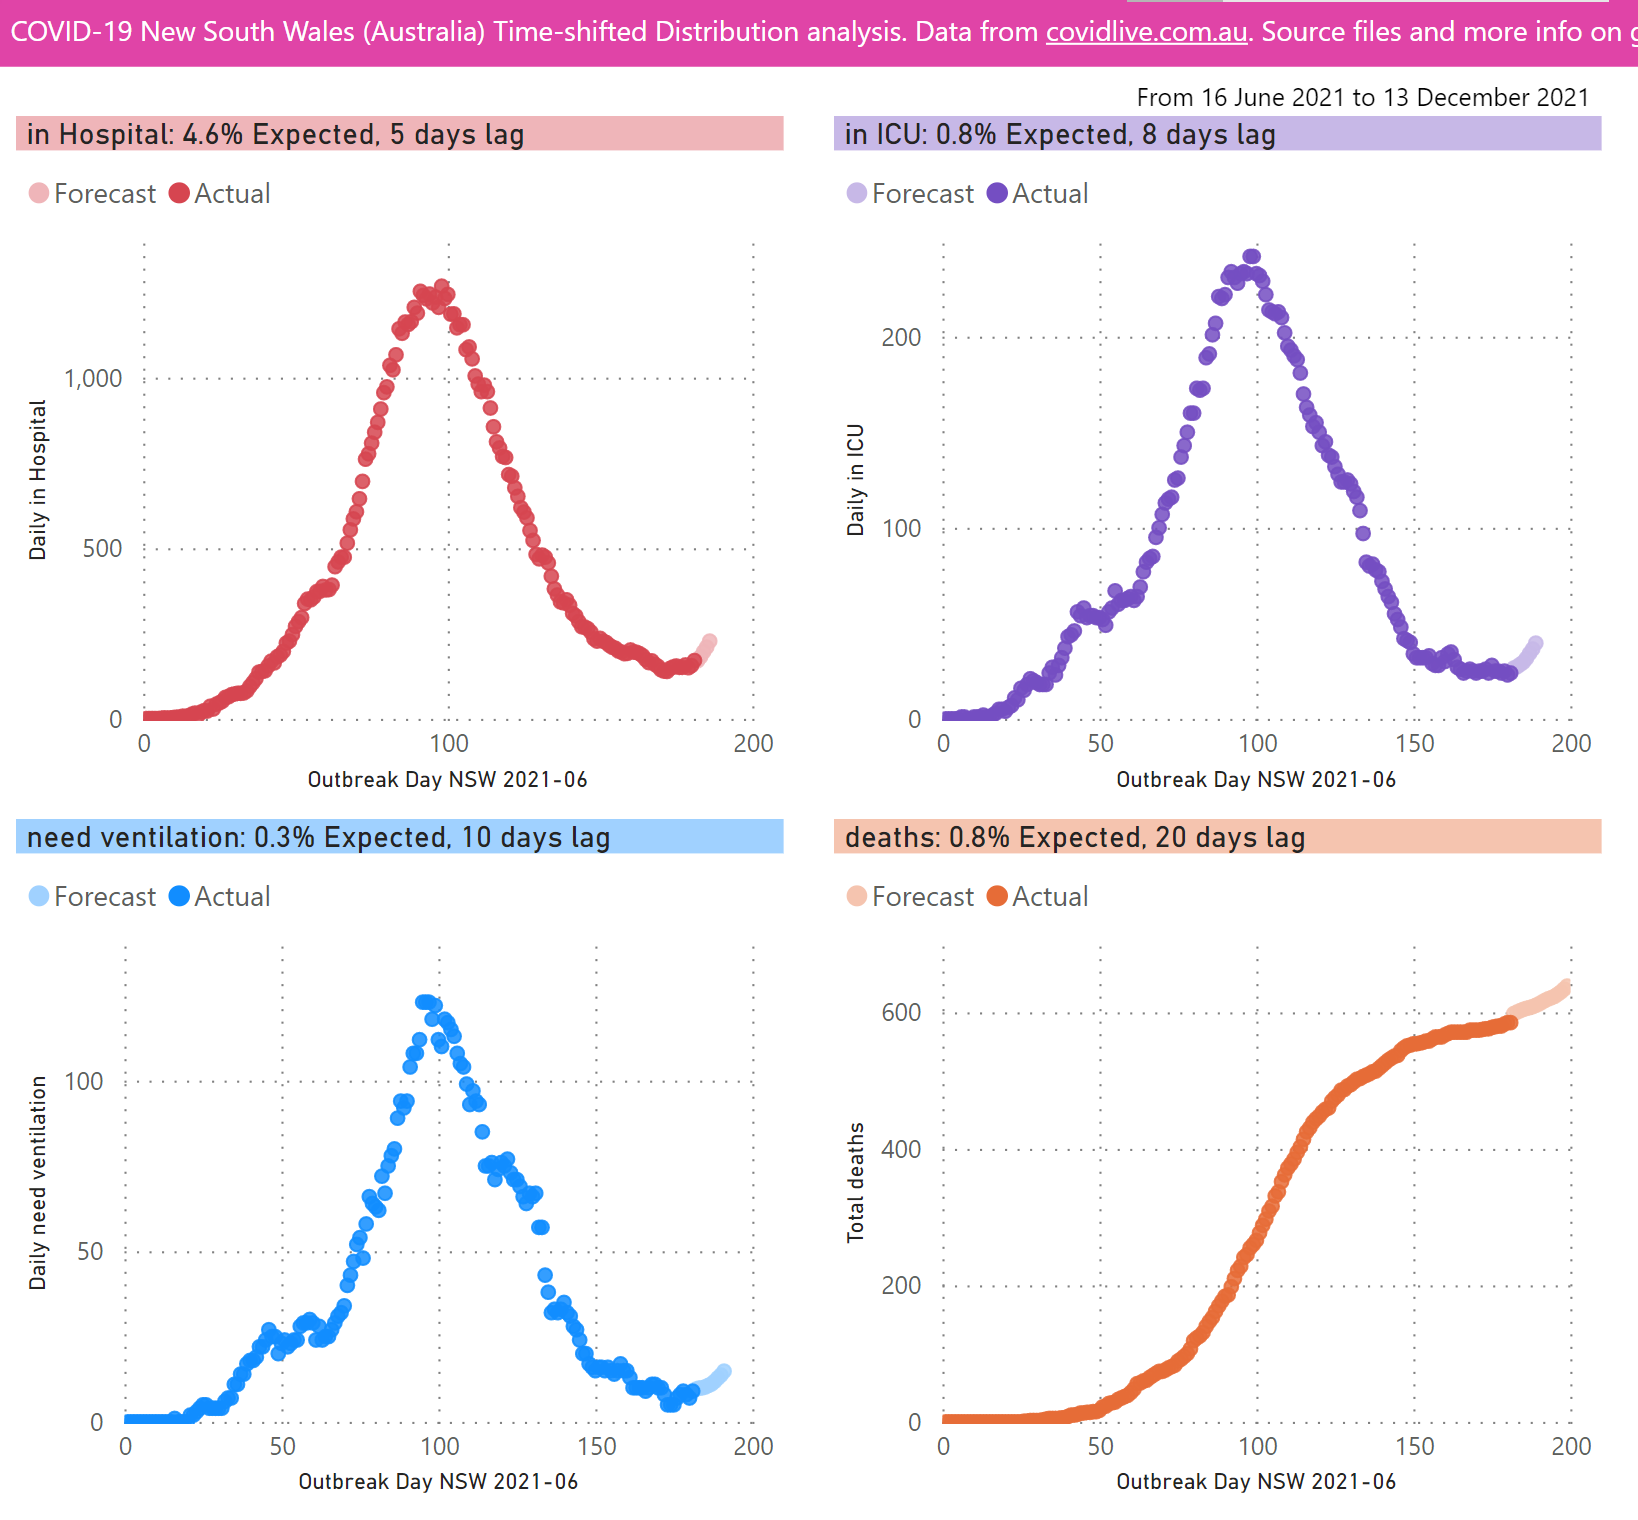

This screenshot's page, from the dashboard's own definition file:
{"tool":"powerbi","page":{"name":"TSD NSW 2021-06","canvas":[1280,720],"ordinal":4},"visuals":[{"type":"scatterChart","fields":{"X":["Sum(Dates.Outbreak Day NSW 2021-06)"],"Series":["Series.Series"],"Category":["Dates.Date"],"Y":["covid-live.# Total in Metric w Fcst"]},"box":[400,392,368,328],"z":0},{"type":"shape","box":[1104,434,160,264],"z":1000},{"type":"shape","box":[928,434,160,264],"z":2000},{"type":"shape","box":[1104,160,160,264],"z":3000},{"type":"shape","box":[928,160,160,264],"z":4000},{"type":"scatterChart","fields":{"X":["Sum(Dates.Outbreak Day NSW 2021-06)"],"Series":["Series.Series"],"Category":["Dates.Date"],"Y":["covid-live.# Total in Metric w Fcst"]},"box":[8,56,368,328],"z":5000},{"type":"slicer","fields":{"Values":["covid-live.Report Date"]},"box":[1056,48,208,112],"z":6000},{"type":"slicer","fields":{"Values":["Metric Expected.%.% Metric Expected"]},"box":[936,184,144,112],"z":7000},{"type":"slicer","fields":{"Values":["Days to Lag.Days to Lag"]},"box":[936,304,144,112],"z":8000},{"type":"textbox","box":[0,0,1280,32],"z":9000},{"type":"scatterChart","fields":{"X":["Sum(Dates.Outbreak Day NSW 2021-06)"],"Series":["Series.Series"],"Category":["Dates.Date"],"Y":["covid-live.# Total in Metric w Fcst"]},"box":[8,392,368,328],"z":10000},{"type":"scatterChart","fields":{"X":["Sum(Dates.Outbreak Day NSW 2021-06)"],"Series":["Series.Series"],"Category":["Dates.Date"],"Y":["covid-live.# Total in Metric w Fcst"]},"box":[400,56,368,328],"z":11000},{"type":"slicer","fields":{"Values":["% Metric Expected.%.% Metric Expected"]},"box":[1112.9,184.7,144,112],"z":12000},{"type":"slicer","fields":{"Values":["Days to Lag.Days to Lag"]},"box":[1112.9,304.7,144,112],"z":13000},{"type":"slicer","fields":{"Values":["% Metric Expected.%.% Metric Expected"]},"box":[936,458,144,112],"z":15000},{"type":"slicer","fields":{"Values":["Days to Lag.Days to Lag"]},"box":[936,578,144,112],"z":16000},{"type":"slicer","fields":{"Values":["% Metric Expected.%.% Metric Expected"]},"box":[1112.9,458.7,144,112],"z":17000},{"type":"slicer","fields":{"Values":["Days to Lag.Days to Lag"]},"box":[1112.9,578.7,144,112],"z":18000},{"type":"htmlContent443BE3AD55E043BF878BED274D3A6855","fields":{"content":["covid-live./ Report Date Range"]},"box":[512.3,31.6,255.5,31.6],"z":19000},{"type":"htmlContent443BE3AD55E043BF878BED274D3A6855","fields":{"content":["covid-live.@ Last Forecast"]},"box":[800,32,256,32],"z":20000},{"type":"htmlContent443BE3AD55E043BF878BED274D3A6855","fields":{"content":["covid-live.@ Last Forecast"]},"box":[800,64,256,32],"z":21000},{"type":"htmlContent443BE3AD55E043BF878BED274D3A6855","fields":{"content":["covid-live.@ Last Forecast"]},"box":[800,96,256,32],"z":22000},{"type":"htmlContent443BE3AD55E043BF878BED274D3A6855","fields":{"content":["covid-live.@ Last Forecast"]},"box":[800,128,256,32],"z":23000},{"type":"slicer","fields":{"Values":["Show Forecasts.Show Forecast"]},"box":[800,616,128,80],"z":24000}]}

Visuals, with their boxes on the page's 1280x720 design canvas (x1, y1, x2, y2). These are canvas units, not pixel positions in the 1638x1520 screenshot, which may show the page scaled, cropped or inside an application window:
scatterChart - Sum(Dates.Outbreak Day NSW 2021-06) x Series.Series: box=[400, 392, 768, 720]
shape: box=[1104, 434, 1264, 698]
shape: box=[928, 434, 1088, 698]
shape: box=[1104, 160, 1264, 424]
shape: box=[928, 160, 1088, 424]
scatterChart - Sum(Dates.Outbreak Day NSW 2021-06) x Series.Series: box=[8, 56, 376, 384]
slicer - covid-live.Report Date: box=[1056, 48, 1264, 160]
slicer - Metric Expected.%.% Metric Expected: box=[936, 184, 1080, 296]
slicer - Days to Lag.Days to Lag: box=[936, 304, 1080, 416]
textbox: box=[0, 0, 1280, 32]
scatterChart - Sum(Dates.Outbreak Day NSW 2021-06) x Series.Series: box=[8, 392, 376, 720]
scatterChart - Sum(Dates.Outbreak Day NSW 2021-06) x Series.Series: box=[400, 56, 768, 384]
slicer - % Metric Expected.%.% Metric Expected: box=[1113, 185, 1257, 297]
slicer - Days to Lag.Days to Lag: box=[1113, 305, 1257, 417]
slicer - % Metric Expected.%.% Metric Expected: box=[936, 458, 1080, 570]
slicer - Days to Lag.Days to Lag: box=[936, 578, 1080, 690]
slicer - % Metric Expected.%.% Metric Expected: box=[1113, 459, 1257, 571]
slicer - Days to Lag.Days to Lag: box=[1113, 579, 1257, 691]
htmlContent443BE3AD55E043BF878BED274D3A6855 - covid-live./ Report Date Range: box=[512, 32, 768, 63]
htmlContent443BE3AD55E043BF878BED274D3A6855 - covid-live.@ Last Forecast: box=[800, 32, 1056, 64]
htmlContent443BE3AD55E043BF878BED274D3A6855 - covid-live.@ Last Forecast: box=[800, 64, 1056, 96]
htmlContent443BE3AD55E043BF878BED274D3A6855 - covid-live.@ Last Forecast: box=[800, 96, 1056, 128]
htmlContent443BE3AD55E043BF878BED274D3A6855 - covid-live.@ Last Forecast: box=[800, 128, 1056, 160]
slicer - Show Forecasts.Show Forecast: box=[800, 616, 928, 696]
